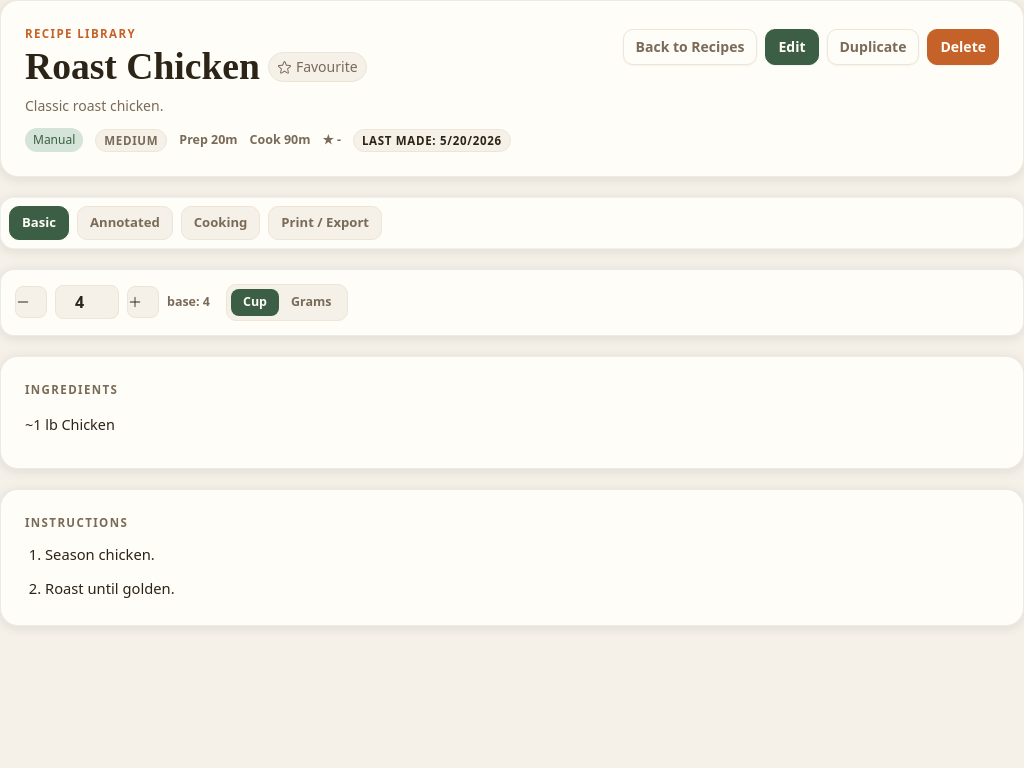
Test: RecipeDetail duplicate draft flow › shows made count in chip and opens made history modal
Click the button "Last made: 5/20/2026": (432, 140) [353,129,511,152]
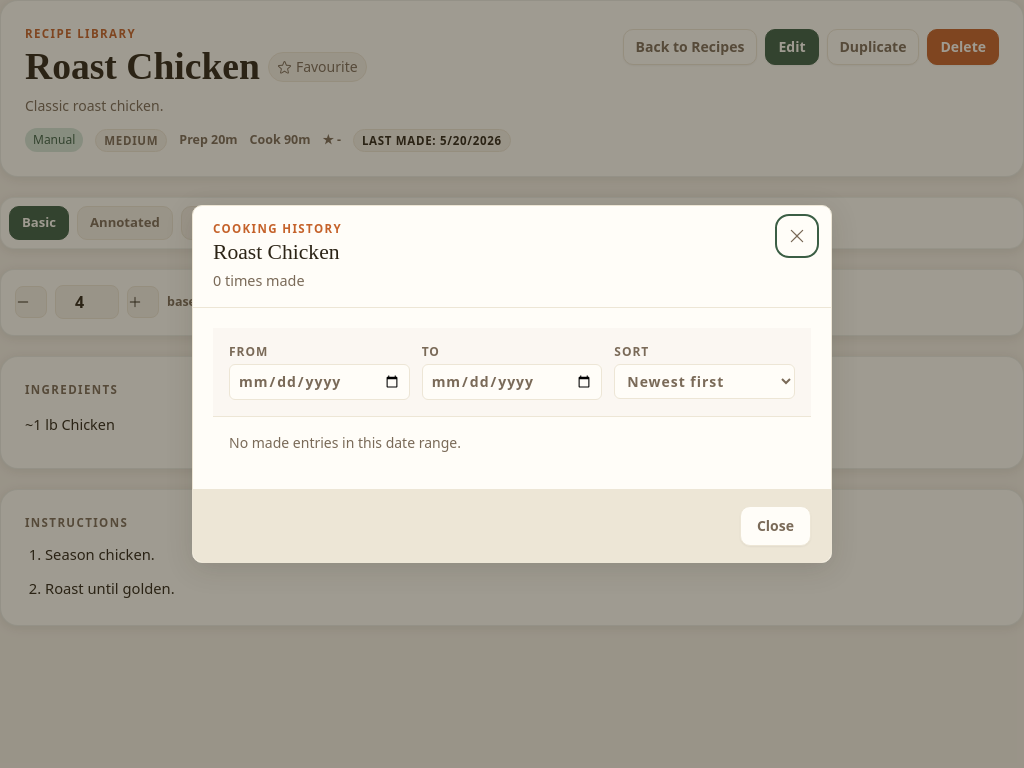
expect the dialog named "Recipe made history" is shown: met, box [192,205,832,563]
